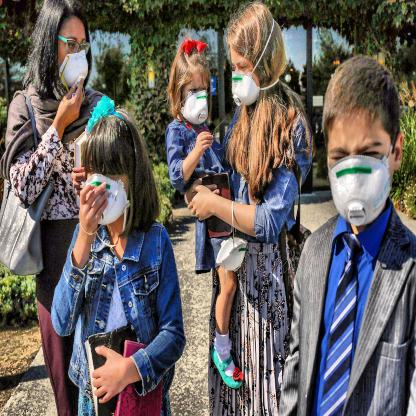not_wear: (323, 58, 400, 231), (82, 110, 152, 230), (223, 4, 283, 106), (168, 38, 212, 124), (55, 13, 92, 97)
